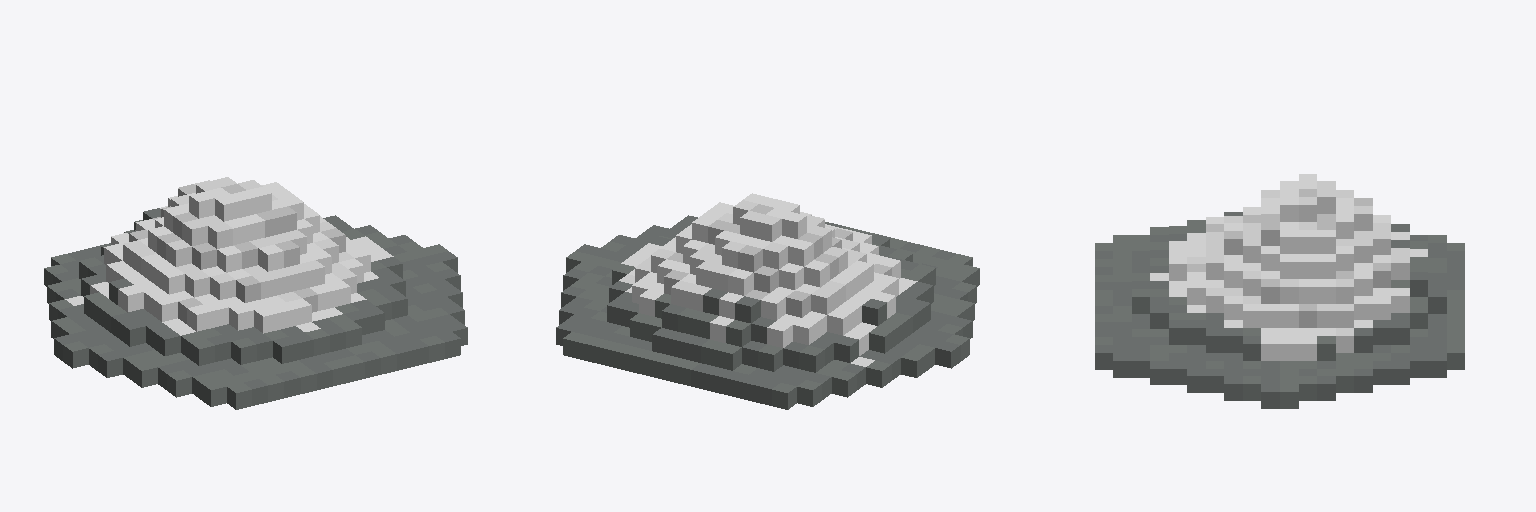
3 renders of one model, left to right at view 1: azimuth 30°, elevation 25°; view 2: azimuth 150°, elevation 25°; view 3: azimuth 270°, elevation 25°, orthographic.
Visible parts, largest first — view 1: stone_1px; view 2: stone_1px; view 3: stone_1px.
Boxes of the visible parts, x1=… form: stone_1px: x1=44, y1=177, x2=467, y2=409; stone_1px: x1=556, y1=193, x2=979, y2=409; stone_1px: x1=1095, y1=174, x2=1464, y2=408.
Bounding box in the file's own units: 2.4 × 0.7 × 2.
1 materials, 1 textured.